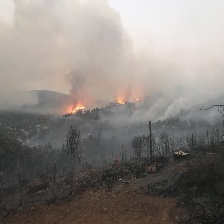fire: (67, 103, 86, 116), (117, 98, 126, 107)
smoke: (1, 2, 224, 144)
